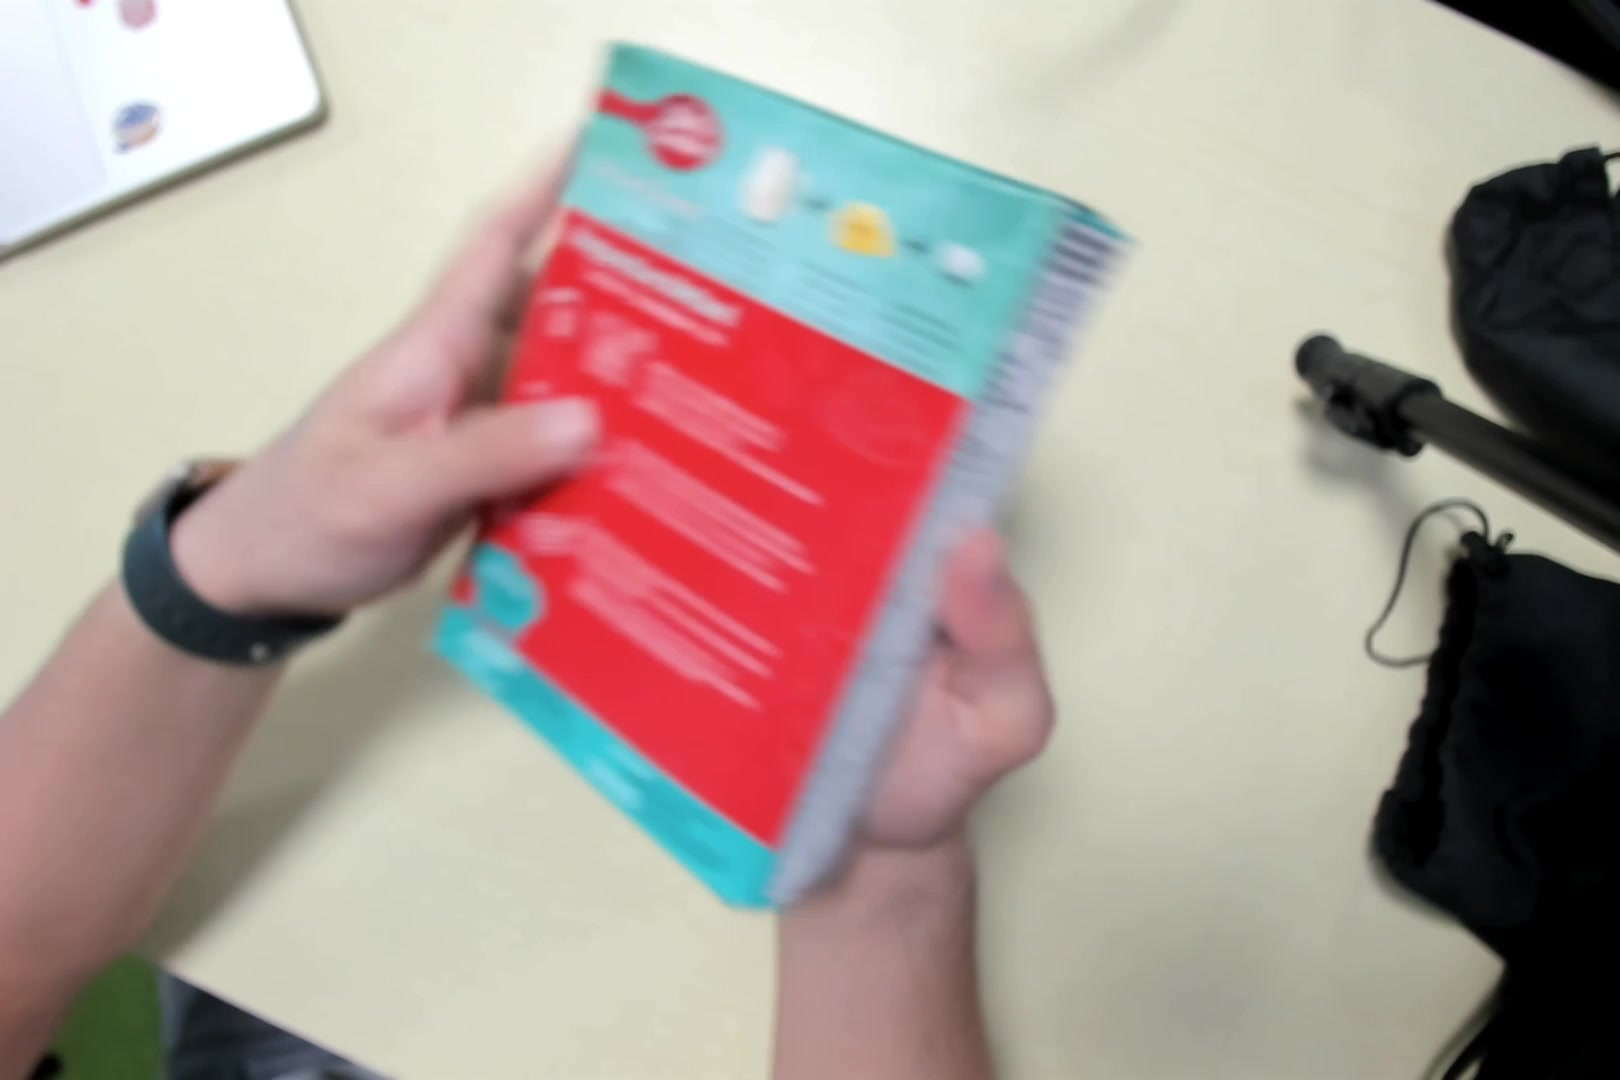OtherBakingNeeds_400-499g_Halal_NonHealthy: (430, 45, 1141, 911)
